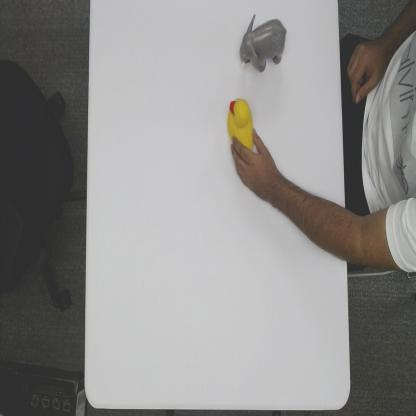Arm: (277, 174, 346, 261)
Duck: (225, 95, 257, 156)
Elephant: (239, 10, 288, 74)
Hand: (228, 124, 275, 202)
